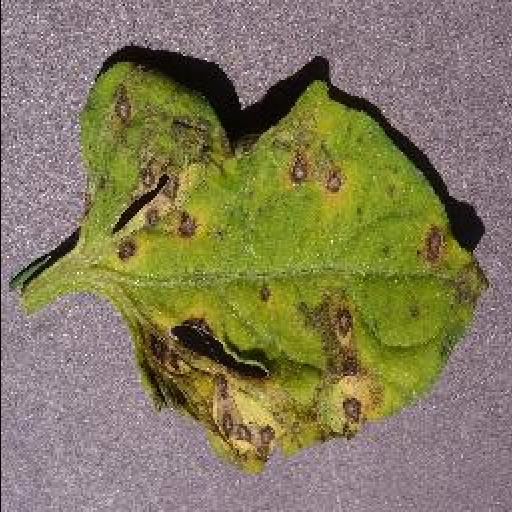disease_tomato: (82, 64, 488, 474)
